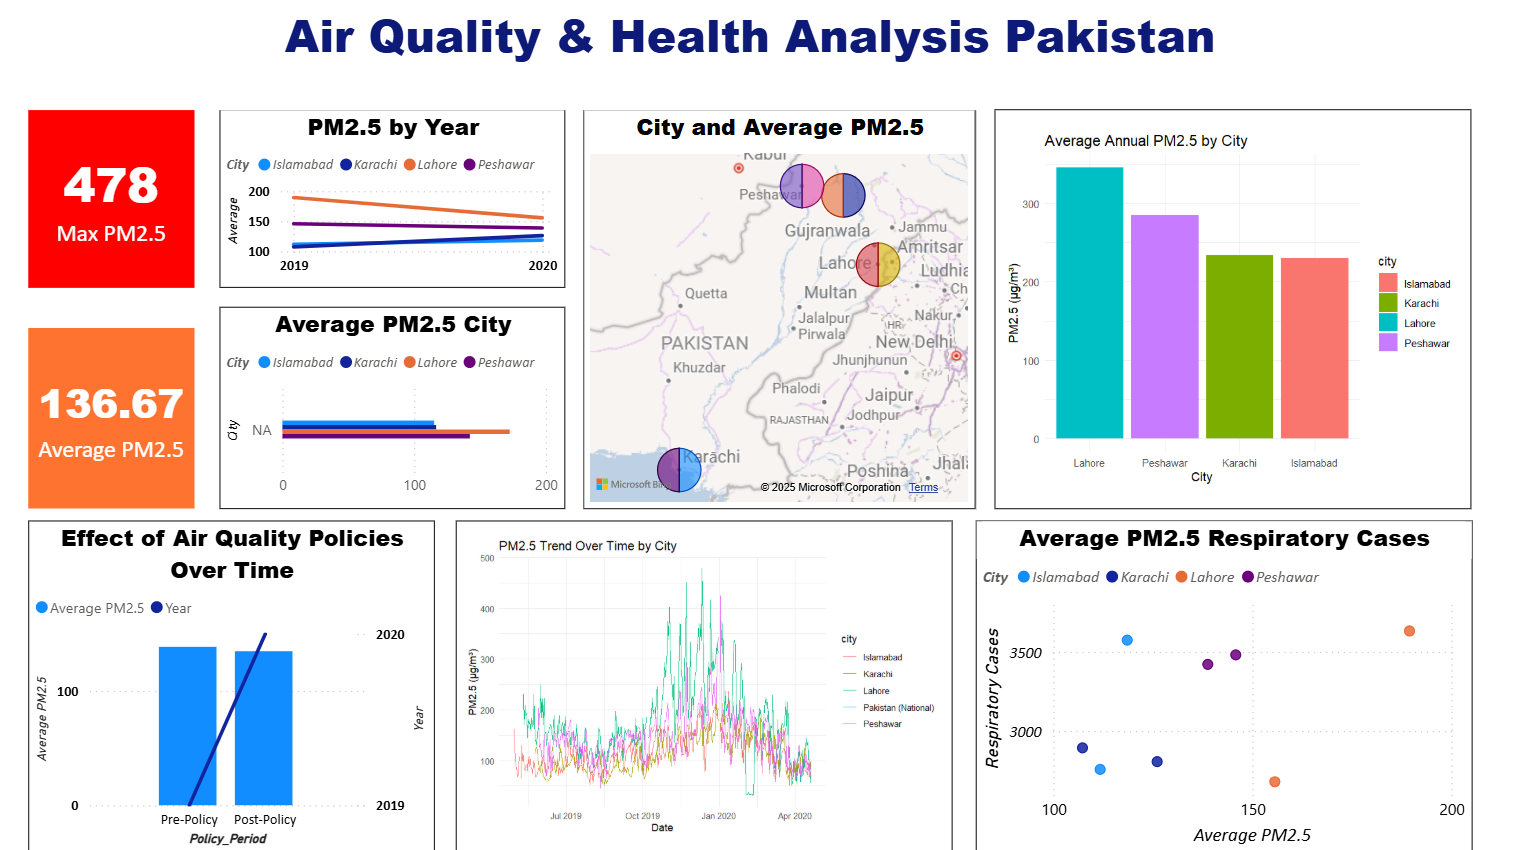

The page's visual inventory and layout, read from the dashboard file:
{"tool":"powerbi","page":{"name":"Page 1","canvas":[1280,720],"ordinal":0},"visuals":[{"type":"card","fields":{"Values":["Max(AirQuality_Health_Annual.Max PM2.5)"]},"box":[26,94,140,150],"z":0},{"type":"card","fields":{"Values":["Avg(AirQuality_Health_Annual.Average PM2.5)"]},"box":[26,278,140,152],"z":1000},{"type":"lineChart","title":"PM2.5 by Year","fields":{"Category":["AirQuality_Health_Annual.Year"],"Series":["AirQuality_Health_Annual.City"],"Y":["Avg(AirQuality_Health_Annual.Average PM2.5)"]},"box":[187.5,93.8,291.2,150],"z":2000},{"type":"clusteredBarChart","title":"Average PM2.5 City","fields":{"Category":["AirQuality_Health_Annual.Number"],"Y":["Avg(AirQuality_Health_Annual.Average PM2.5)"],"Series":["AirQuality_Health_Annual.City"]},"box":[187.5,260,291.2,170],"z":3000},{"type":"scatterChart","title":"Average PM2.5 Respiratory Cases","fields":{"X":["AirQuality_Health_Annual.Average PM2.5"],"Y":["AirQuality_Health_Annual.Respiratory Cases"],"Series":["AirQuality_Health_Annual.City"]},"box":[824,440,418,280],"z":4000},{"type":"map","fields":{"Category":["AirQuality_Health_Annual.City"],"Series":["AirQuality_Health_Annual.Average PM2.5"]},"box":[493.3,93.3,330,336.7],"z":5000},{"type":"lineStackedColumnComboChart","title":"Effect of Air Quality Policies Over Time","fields":{"Category":["AirQuality_Health_Annual.Policy_Period"],"Y":["Avg(AirQuality_Health_Annual.Average PM2.5)"],"Y2":["Median(AirQuality_Health_Annual.Year)"]},"box":[26,440,342,280],"z":6000},{"type":"textbox","box":[26,0,1216,94],"z":6001},{"type":"image","box":[386.7,440,418.3,280],"z":6002},{"type":"image","box":[840,93.3,401.7,336.7],"z":6003}]}

Visuals, with their boxes in screenshot pixels (x1, y1, x2, y2), scaled from the page's 1280x720 canvas onto the 1514x850 screenshot:
card - Max(AirQuality_Health_Annual.Max PM2.5): 31, 111, 196, 288
card - Avg(AirQuality_Health_Annual.Average PM2.5): 31, 328, 196, 508
"PM2.5 by Year" lineChart: 222, 111, 566, 288
"Average PM2.5 City" clusteredBarChart: 222, 307, 566, 508
"Average PM2.5 Respiratory Cases" scatterChart: 975, 519, 1469, 849
map - AirQuality_Health_Annual.City x AirQuality_Health_Annual.Average PM2.5: 583, 110, 974, 508
"Effect of Air Quality Policies Over Time" lineStackedColumnComboChart: 31, 519, 435, 849
textbox: 31, 0, 1469, 111
image: 457, 519, 952, 849
image: 994, 110, 1469, 508
